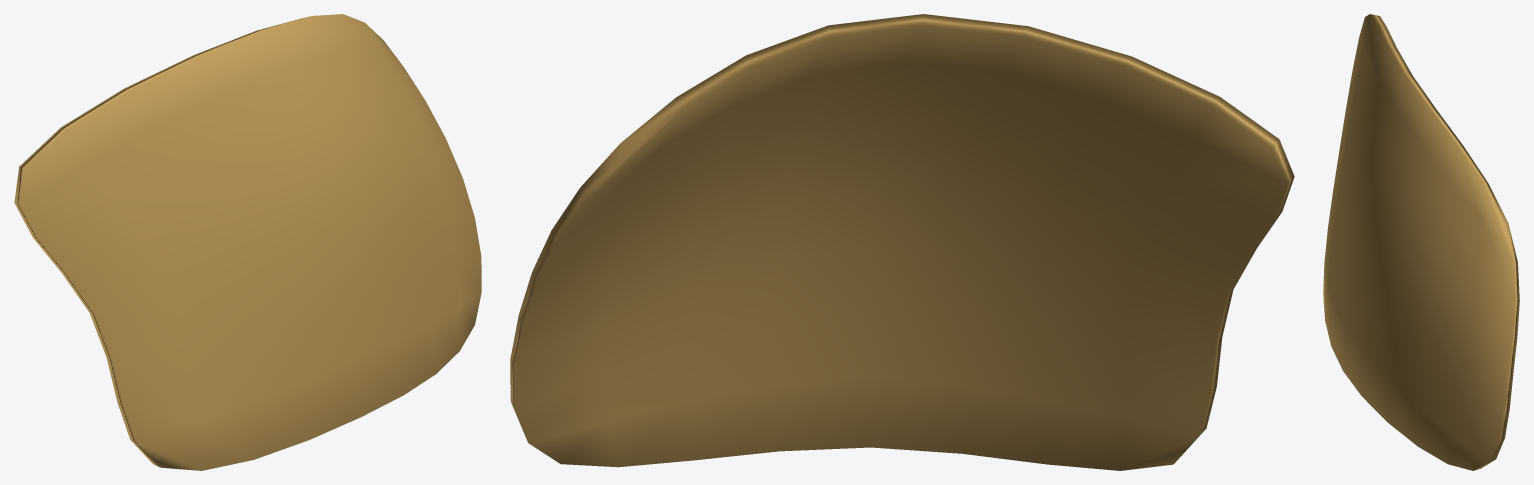
3 views of the same model, side by side, from view 1: azimuth 30°, elevation 25°; view 2: azimuth 150°, elevation 25°; view 3: azimuth 270°, elevation 25° (orthographic). The views are drawn at different scales.
Parts seen in each view (by area): view 1: 左侧肩锁韧带; view 2: 左侧肩锁韧带; view 3: 左侧肩锁韧带.
Boxes of the visible parts, x1,y1,x2,y2 form: 左侧肩锁韧带: [14, 14, 481, 470]; 左侧肩锁韧带: [510, 14, 1294, 470]; 左侧肩锁韧带: [1323, 14, 1519, 470].
Bounding box in the file's own units: 0.0348 × 0.0241 × 0.014.
